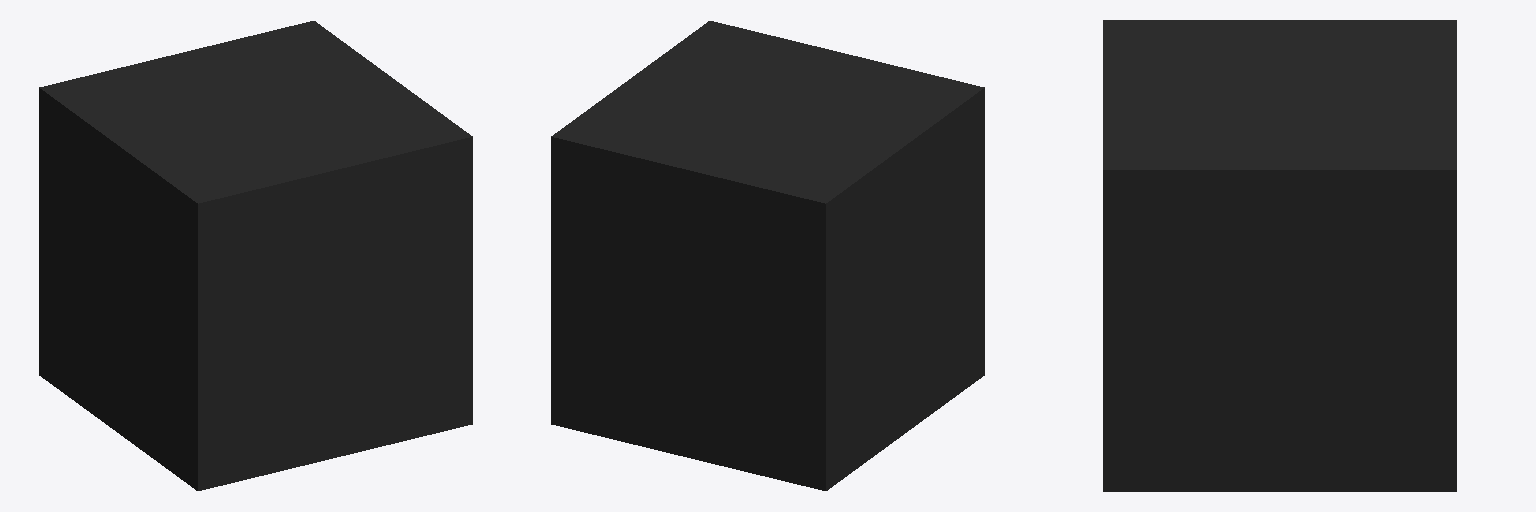
robot.urdf — lbr_iiwa:
<?xml version="1.0" ?>
<!-- ======================================================================= -->
<!-- | This document was autogenerated by xacro from lbr_iiwa.urdf.xacro   | -->
<!-- | Original xacro: https://github.com/rtkg/lbr_iiwa/archive/master.zip | -->
<!-- | EDITING THIS FILE BY HAND IS NOT RECOMMENDED                        | -->
<!-- | Changes ([author]):                                                 | -->
<!-- |   * Removed gazebo tags.                                            | -->
<!-- |   * Removed unused materials.                                       | -->
<!-- |   * Made mesh paths relative.                                       | -->
<!-- |   * Removed material fields from collision segments.                | -->
<!-- |   * Removed the self_collision_checking segment.                    | -->
<!-- |   * Removed transmission segments, since they didn't match the      | -->
<!-- |     convention, will have to added back later.                      | -->
<!-- ======================================================================= -->
<!--LICENSE:                                                                 -->
<!--Copyright (c) 2015, [author] & [author], AASS Research Center,  -->
<!--Orebro University, Sweden                                                -->
<!--All rights reserved.                                                     -->
<!--                                                                         -->
<!--Redistribution and use in source and binary forms, with or without       -->
<!--modification, are permitted provided that the following conditions are   -->
<!--met:                                                                     -->
<!--                                                                         -->
<!--1. Redistributions of source code must retain the above copyright notice,-->
<!--   this list of conditions and the following disclaimer.                 -->
<!--                                                                         -->
<!--2. Redistributions in binary form must reproduce the above copyright     -->
<!--   notice, this list of conditions and the following disclaimer in the   -->
<!--   documentation and/or other materials provided with the distribution.  -->
<!--                                                                         -->
<!--THIS SOFTWARE IS PROVIDED BY THE COPYRIGHT [author] "AS  -->
<!--IS" AND ANY EXPRESS OR IMPLIED WARRANTIES, INCLUDING, BUT NOT LIMITED TO,-->
<!--THE IMPLIED WARRANTIES OF MERCHANTABILITY AND FITNESS FOR A PARTICULAR   -->
<!--PURPOSE ARE DISCLAIMED. IN NO EVENT SHALL THE COPYRIGHT [author]        -->
<!--CONTRIBUTORS BE LIABLE FOR ANY DIRECT, INDIRECT, INCIDENTAL, SPECIAL,    -->
<!--EXEMPLARY, OR CONSEQUENTIAL DAMAGES (INCLUDING, BUT NOT LIMITED TO,      -->
<!--PROCUREMENT OF SUBSTITUTE GOODS OR SERVICES; LOSS OF USE, DATA, OR       -->
<!--PROFITS; OR BUSINESS INTERRUPTION) HOWEVER CAUSED AND ON ANY THEORY OF   -->
<!--LIABILITY, WHETHER IN CONTRACT, STRICT LIABILITY, OR TORT (INCLUDING     -->
<!--NEGLIGENCE OR OTHERWISE) ARISING IN ANY WAY OUT OF THE USE OF THIS       -->
<!--SOFTWARE, EVEN IF ADVISED OF THE POSSIBILITY OF SUCH DAMAGE.             -->
<robot name="lbr_iiwa" xmlns:xacro="http://www.ros.org/wiki/xacro">
  <!-- Import Rviz colors -->
  <material name="Grey">
    <color rgba="0.2 0.2 0.2 1.0"/>
  </material>
  <material name="Orange">
    <color rgba="1.0 0.423529411765 0.0392156862745 1.0"/>
  </material>
  <material name="Blue">
  <color rgba="0.5 0.7 1.0 1.0"/>
</material>

  <!--Import the lbr iiwa macro -->
  <!--Import Transmissions -->
  <!--Include Utilities -->
  <!--The following macros are adapted from the LWR 4 definitions of the RCPRG - https://github.com/RCPRG-ros-pkg/lwr_robot -->
  <!--Little helper macros to define the inertia matrix needed for links.-->
  <!--Cuboid-->
  <!--Cylinder: length is along the y-axis! -->
  <!--lbr-->
  <link name="lbr_iiwa_link_0">
    <inertial>
      <origin rpy="0 0 0" xyz="-0.1 0 0.07"/>
      <!--Increase mass from 5 Kg original to provide a stable base to carry the
          arm.-->
      <mass value="0.0"/>
      <inertia ixx="0.05" ixy="0" ixz="0" iyy="0.06" iyz="0" izz="0.03"/>
    </inertial>
    <visual>
      <origin rpy="0 0 0" xyz="0 0 0"/>
      <geometry>
        <mesh filename="meshes/link_0.obj"/>
      </geometry>
      <material name="Grey"/>
    </visual>
    <collision>
      <origin rpy="0 0 0" xyz="0 0 0"/>
      <geometry>
        <mesh filename="meshes/link_0.stl"/>
      </geometry>
    </collision>
  </link>
  <!-- joint between link_0 and link_1 -->
  <joint name="lbr_iiwa_joint_1" type="revolute">
    <parent link="lbr_iiwa_link_0"/>
    <child link="lbr_iiwa_link_1"/>
    <origin rpy="0 0 0" xyz="0 0 0.1575"/>
    <axis xyz="0 0 1"/>
    <limit effort="300" lower="-2.96705972839" upper="2.96705972839" velocity="10"/>
    <dynamics damping="0.5"/>
  </joint>
  <link name="lbr_iiwa_link_1">
    <inertial>
      <origin rpy="0 0 0" xyz="0 -0.03 0.12"/>
      <mass value="4"/>
      <inertia ixx="0.1" ixy="0" ixz="0" iyy="0.09" iyz="0" izz="0.02"/>
    </inertial>
    <visual>
      <origin rpy="0 0 0" xyz="0 0 0"/>
      <geometry>
        <mesh filename="meshes/link_1.obj"/>
      </geometry>
      <material name="Blue"/>
    </visual>
    <collision>
      <origin rpy="0 0 0" xyz="0 0 0"/>
      <geometry>
        <mesh filename="meshes/link_1.stl"/>
      </geometry>
    </collision>
  </link>
  <!-- joint between link_1 and link_2 -->
  <joint name="lbr_iiwa_joint_2" type="revolute">
    <parent link="lbr_iiwa_link_1"/>
    <child link="lbr_iiwa_link_2"/>
    <origin rpy="1.57079632679   0 3.14159265359" xyz="0 0 0.2025"/>
    <axis xyz="0 0 1"/>
    <limit effort="300" lower="-2.09439510239" upper="2.09439510239" velocity="10"/>
    <dynamics damping="0.5"/>
  </joint>
  <link name="lbr_iiwa_link_2">
    <inertial>
      <origin rpy="0 0 0" xyz="0.0003 0.059 0.042"/>
      <mass value="4"/>
      <inertia ixx="0.05" ixy="0" ixz="0" iyy="0.018" iyz="0" izz="0.044"/>
    </inertial>
    <visual>
      <origin rpy="0 0 0" xyz="0 0 0"/>
      <geometry>
        <mesh filename="meshes/link_2.obj"/>
      </geometry>
      <material name="Blue"/>
    </visual>
    <collision>
      <origin rpy="0 0 0" xyz="0 0 0"/>
      <geometry>
        <mesh filename="meshes/link_2.stl"/>
      </geometry>
    </collision>
  </link>
  <!-- joint between link_2 and link_3 -->
  <joint name="lbr_iiwa_joint_3" type="revolute">
    <parent link="lbr_iiwa_link_2"/>
    <child link="lbr_iiwa_link_3"/>
    <origin rpy="1.57079632679 0 3.14159265359" xyz="0 0.2045 0"/>
    <axis xyz="0 0 1"/>
    <limit effort="300" lower="-2.96705972839" upper="2.96705972839" velocity="10"/>
    <dynamics damping="0.5"/>
  </joint>
  <link name="lbr_iiwa_link_3">
    <inertial>
      <origin rpy="0 0 0" xyz="0 0.03 0.13"/>
      <mass value="3"/>
      <inertia ixx="0.08" ixy="0" ixz="0" iyy="0.075" iyz="0" izz="0.01"/>
    </inertial>
    <visual>
      <origin rpy="0 0 0" xyz="0 0 0"/>
      <geometry>
        <mesh filename="meshes/link_3.obj"/>
      </geometry>
      <material name="Orange"/>
    </visual>
    <collision>
      <origin rpy="0 0 0" xyz="0 0 0"/>
      <geometry>
        <mesh filename="meshes/link_3.stl"/>
      </geometry>
    </collision>
  </link>
  <!-- joint between link_3 and link_4 -->
  <joint name="lbr_iiwa_joint_4" type="revolute">
    <parent link="lbr_iiwa_link_3"/>
    <child link="lbr_iiwa_link_4"/>
    <origin rpy="1.57079632679 0 0" xyz="0 0 0.2155"/>
    <axis xyz="0 0 1"/>
    <limit effort="300" lower="-2.09439510239" upper="2.09439510239" velocity="10"/>
    <dynamics damping="0.5"/>
  </joint>
  <link name="lbr_iiwa_link_4">
    <inertial>
      <origin rpy="0 0 0" xyz="0 0.067 0.034"/>
      <mass value="2.7"/>
      <inertia ixx="0.03" ixy="0" ixz="0" iyy="0.01" iyz="0" izz="0.029"/>
    </inertial>
    <visual>
      <origin rpy="0 0 0" xyz="0 0 0"/>
      <geometry>
        <mesh filename="meshes/link_4.obj"/>
      </geometry>
      <material name="Blue"/>
    </visual>
    <collision>
      <origin rpy="0 0 0" xyz="0 0 0"/>
      <geometry>
        <mesh filename="meshes/link_4.stl"/>
      </geometry>
    </collision>
  </link>
  <!-- joint between link_4 and link_5 -->
  <joint name="lbr_iiwa_joint_5" type="revolute">
    <parent link="lbr_iiwa_link_4"/>
    <child link="lbr_iiwa_link_5"/>
    <origin rpy="-1.57079632679 3.14159265359 0" xyz="0 0.1845 0"/>
    <axis xyz="0 0 1"/>
    <limit effort="300" lower="-2.96705972839" upper="2.96705972839" velocity="10"/>
    <dynamics damping="0.5"/>
  </joint>
  <link name="lbr_iiwa_link_5">
    <inertial>
      <origin rpy="0 0 0" xyz="0.0001 0.021 0.076"/>
      <mass value="1.7"/>
      <inertia ixx="0.02" ixy="0" ixz="0" iyy="0.018" iyz="0" izz="0.005"/>
    </inertial>
    <visual>
      <origin rpy="0 0 0" xyz="0 0 0"/>
      <geometry>
        <mesh filename="meshes/link_5.obj"/>
      </geometry>
      <material name="Blue"/>
    </visual>
    <collision>
      <origin rpy="0 0 0" xyz="0 0 0"/>
      <geometry>
        <mesh filename="meshes/link_5.stl"/>
      </geometry>
    </collision>
  </link>
  <!-- joint between link_5 and link_6 -->
  <joint name="lbr_iiwa_joint_6" type="revolute">
    <parent link="lbr_iiwa_link_5"/>
    <child link="lbr_iiwa_link_6"/>
    <origin rpy="1.57079632679 0 0" xyz="0 0 0.2155"/>
    <axis xyz="0 0 1"/>
    <limit effort="300" lower="-2.09439510239" upper="2.09439510239" velocity="10"/>
    <dynamics damping="0.5"/>
  </joint>
  <link name="lbr_iiwa_link_6">
    <inertial>
      <origin rpy="0 0 0" xyz="0 0.0006 0.0004"/>
      <mass value="1.8"/>
      <inertia ixx="0.005" ixy="0" ixz="0" iyy="0.0036" iyz="0" izz="0.0047"/>
    </inertial>
    <visual>
      <origin rpy="0 0 0" xyz="0 0 0"/>
      <geometry>
        <mesh filename="meshes/link_6.obj"/>
      </geometry>
      <material name="Orange"/>
    </visual>
    <collision>
      <origin rpy="0 0 0" xyz="0 0 0"/>
      <geometry>
        <mesh filename="meshes/link_6.stl"/>
      </geometry>
    </collision>
  </link>
  <!-- joint between link_6 and link_7 -->
  <joint name="lbr_iiwa_joint_7" type="revolute">
    <parent link="lbr_iiwa_link_6"/>
    <child link="lbr_iiwa_link_7"/>
    <origin rpy="-1.57079632679 3.14159265359 0" xyz="0 0.081 0"/>
    <axis xyz="0 0 1"/>
    <limit effort="300" lower="-3.05432619099" upper="3.05432619099" velocity="10"/>
    <dynamics damping="0.5"/>
  </joint>
  <link name="lbr_iiwa_link_7">
    <inertial>
      <origin rpy="0 0 0" xyz="0 0 0.02"/>
      <mass value="0.3"/>
      <inertia ixx="0.001" ixy="0" ixz="0" iyy="0.001" iyz="0" izz="0.001"/>
    </inertial>
    <visual>
      <origin rpy="0 0 0" xyz="0 0 0"/>
      <geometry>
        <mesh filename="meshes/link_7.obj"/>
      </geometry>
      <material name="Grey"/>
    </visual>
    <collision>
      <origin rpy="0 0 0" xyz="0 0 0"/>
      <geometry>
        <mesh filename="meshes/link_7.stl"/>
      </geometry>
    </collision>
  </link>

  <joint name="fm_tcp" type="fixed">
    <parent link="lbr_iiwa_link_7"/>
    <child link="tcp_position"/>
    <origin rpy="0.0 3.14159265359 0.0" xyz="0 0 0.045"/>
    <axis xyz="0 0 1"/>
  </joint>

  <link name="tcp_position">
    <visual>
      <origin rpy="0 0 0" xyz="0 0 0"/>
      <geometry>
        <box size="0.001 0.001 0.001"/>
      </geometry>
      <material name="Grey"/>
    </visual>
  </link>

</robot>

--- Render facts (derived) ---
3 views of the same robot in one strip: view 1: azimuth 30°, elevation 25°; view 2: azimuth 150°, elevation 25°; view 3: azimuth 270°, elevation 25° (orthographic).
Model lbr_iiwa with 9 links and 8 joints (7 revolute, 1 fixed), rooted at lbr_iiwa_link_0, posed all joints at 0.
Links seen in each view (by area): view 1: tcp_position; view 2: tcp_position; view 3: tcp_position.
Link boxes in pixels (x1,y1,x2,y2): tcp_position: (39, 21, 472, 490); tcp_position: (551, 21, 984, 490); tcp_position: (1103, 20, 1456, 491).
Size in the robot's own frame: 0.001 by 0.001 by 0.001 metres.
Meshes: 8 distinct files referenced, 0 mesh visuals loaded (none loaded); not drawn: 8 (reference not matched to a file when rendering).